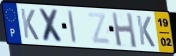H: (110, 11, 138, 49)
I: (67, 9, 77, 45)
K: (19, 7, 40, 42), (135, 14, 156, 49)
X: (37, 7, 66, 45)
Z: (87, 12, 113, 46)
